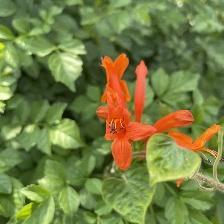honeysuckle: (99, 99, 153, 169)
